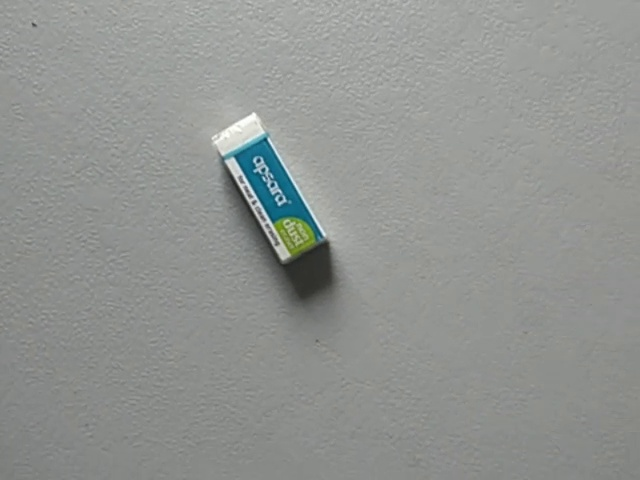Eraser: (210, 103, 342, 270)
